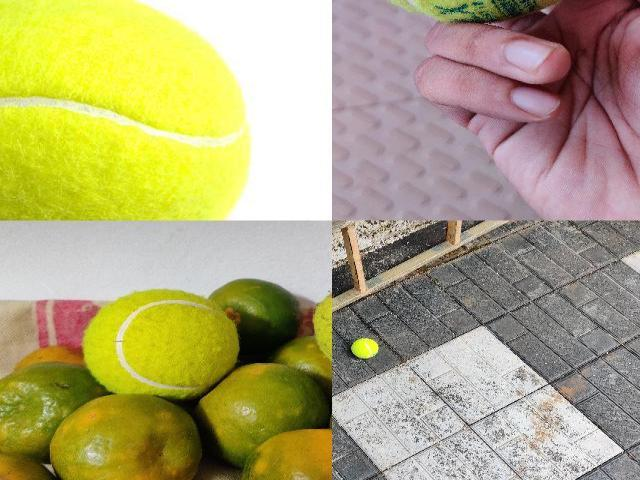tennis-ball: (0, 0, 253, 220), (83, 289, 240, 398), (399, 1, 558, 24), (313, 294, 331, 363), (350, 338, 378, 358)
